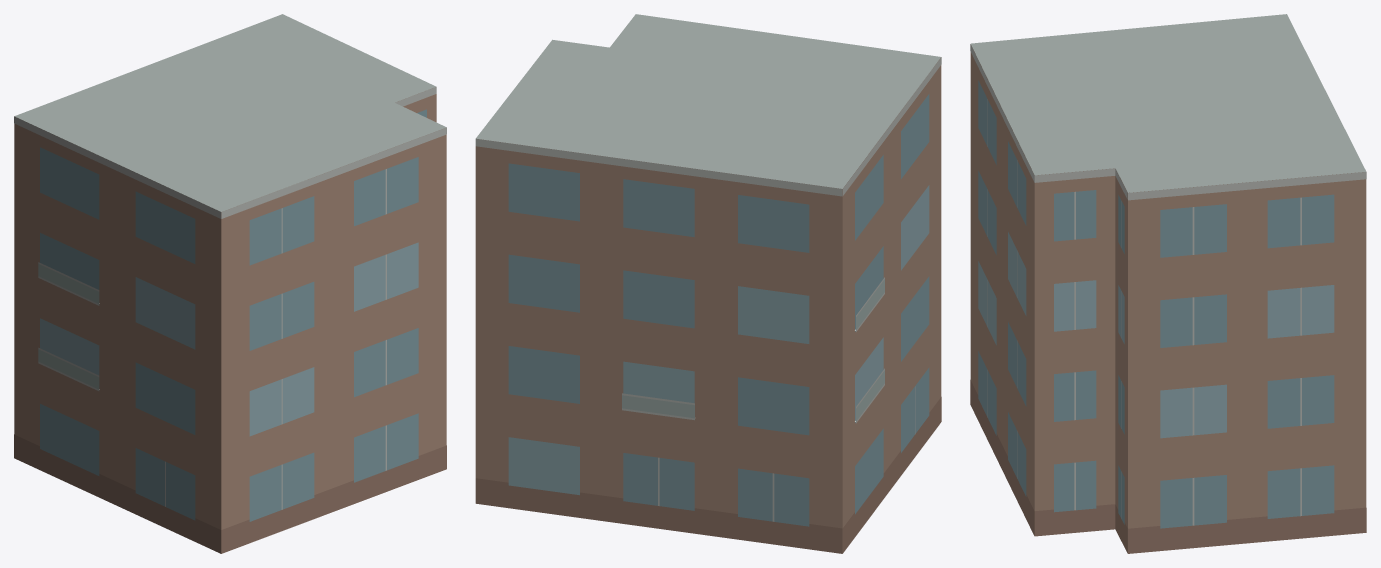
File: survey-upis-32807944.glb
The picture shows the model from 3 angles, left to right: view 1: azimuth 30°, elevation 25°; view 2: azimuth 150°, elevation 25°; view 3: azimuth 270°, elevation 25°; orthographic projection. The views are drawn at different scales.
Parts seen in each view (by area): view 1: survey-upis-32807944.tmp; view 2: survey-upis-32807944.tmp; view 3: survey-upis-32807944.tmp.
Boxes of the visible parts, bbox=[...] form: survey-upis-32807944.tmp: bbox=[14, 14, 446, 553]; survey-upis-32807944.tmp: bbox=[475, 14, 941, 553]; survey-upis-32807944.tmp: bbox=[970, 14, 1366, 553].
Size of the model in its own units: 12.44 by 11.7 by 11.64.
